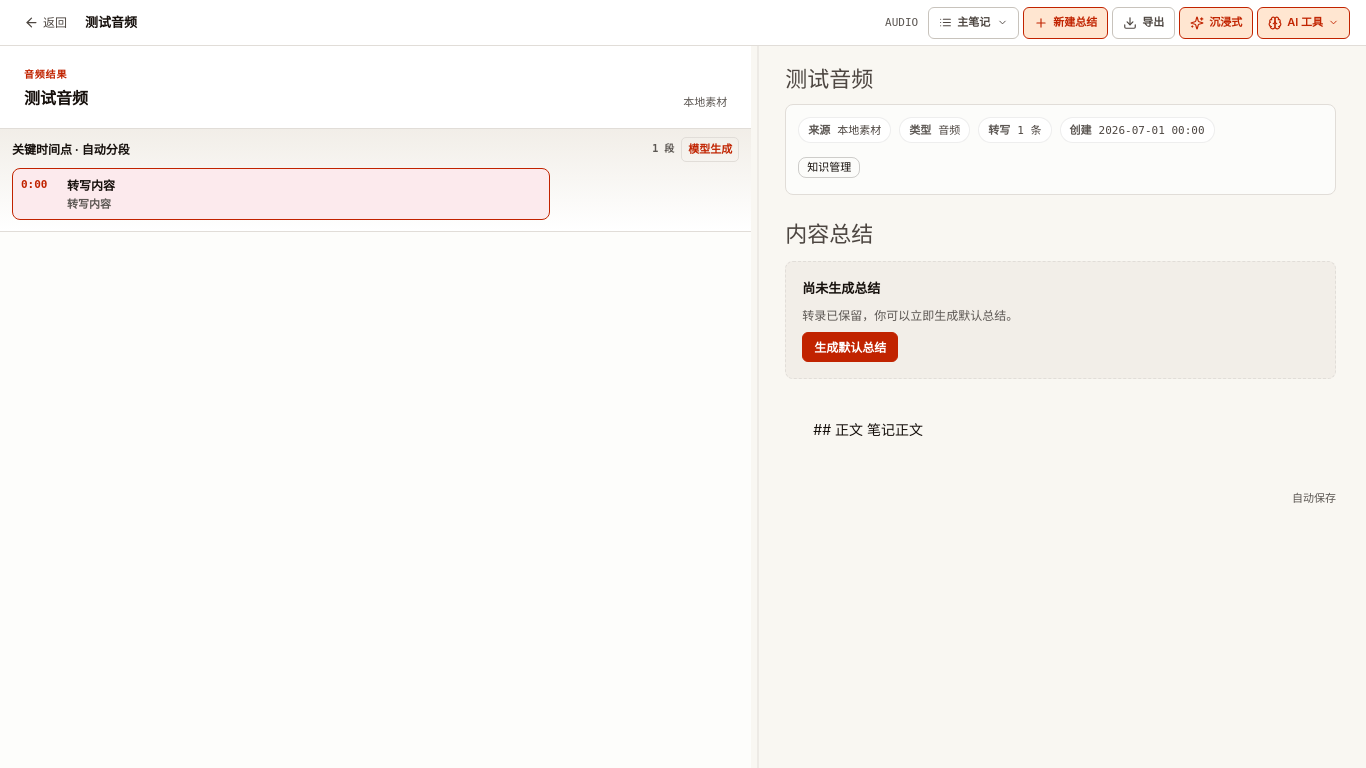
NoteShell 统一导出面板（Q3 / D3） › 转写默认时间轴格式，切到文档格式出现「带时间轴」开关
The image size is (1366, 768).
Step 1. Click the button "导出" → (1144, 22), box [1112,6,1175,38]
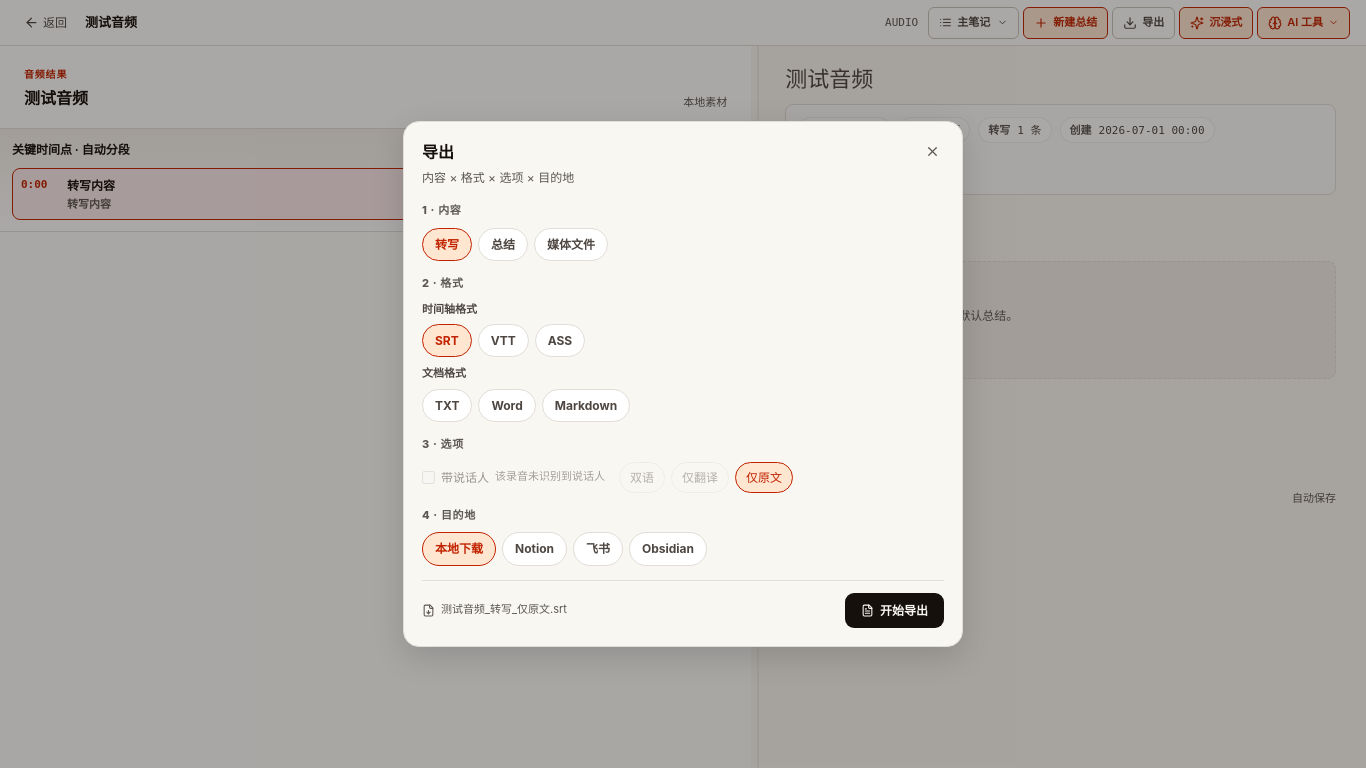
Check: the field labelled "带时间轴" is not shown
Check: the radio button labelled "VTT" is shown, box [478,324,529,357]
Check: the radio button labelled "ASS" is shown, box [535,324,585,357]
Step 2. Click the radio button labelled "Markdown" → (586, 406), box [542,389,630,422]
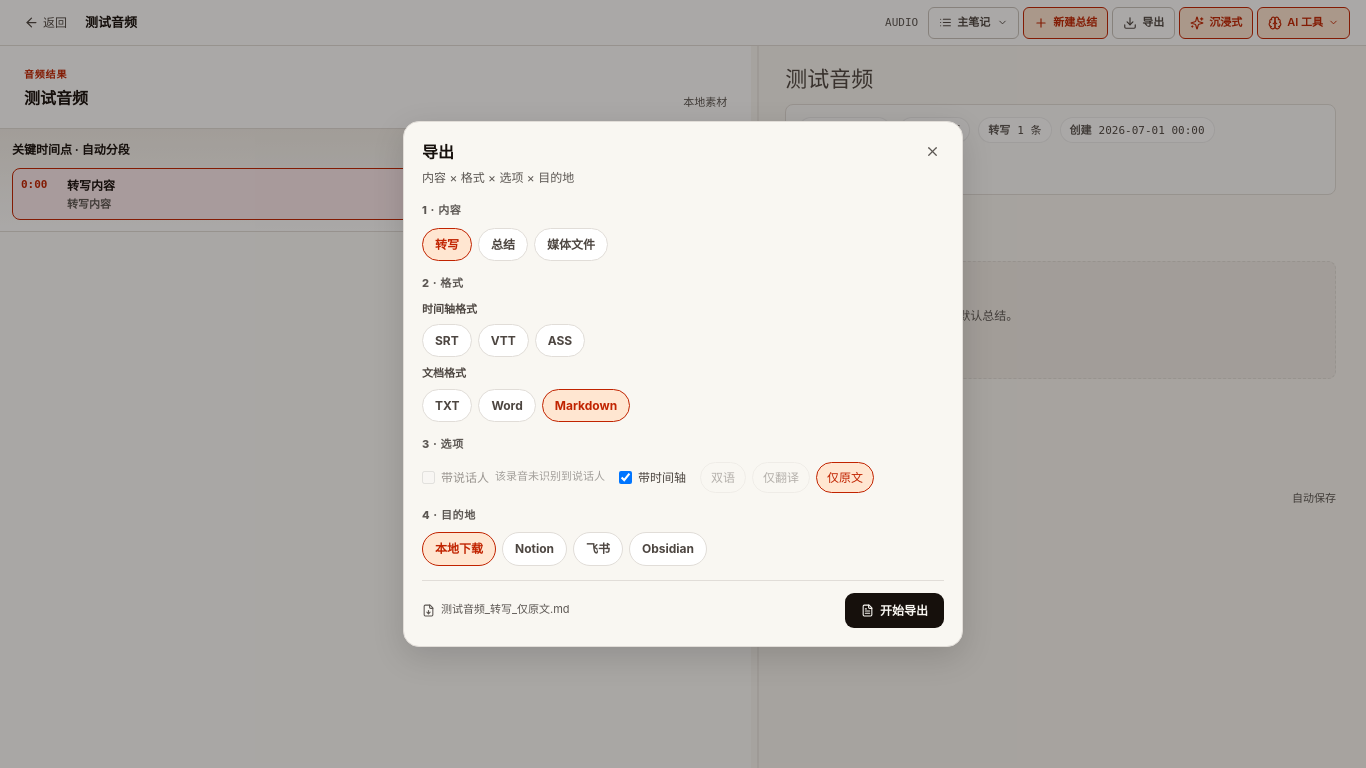
Check: the checkbox labelled "带时间轴" is shown, box [619,471,632,484]
